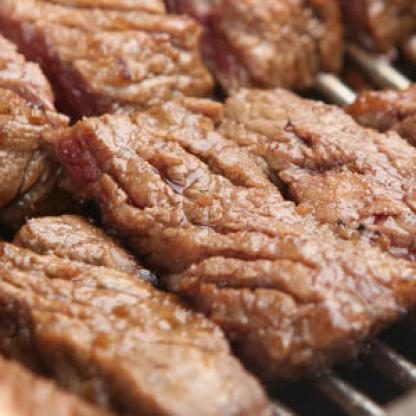Carne: (50, 104, 416, 356), (1, 218, 310, 413), (1, 0, 222, 93), (172, 0, 356, 90), (1, 32, 79, 218), (2, 352, 134, 412), (335, 78, 415, 138)
